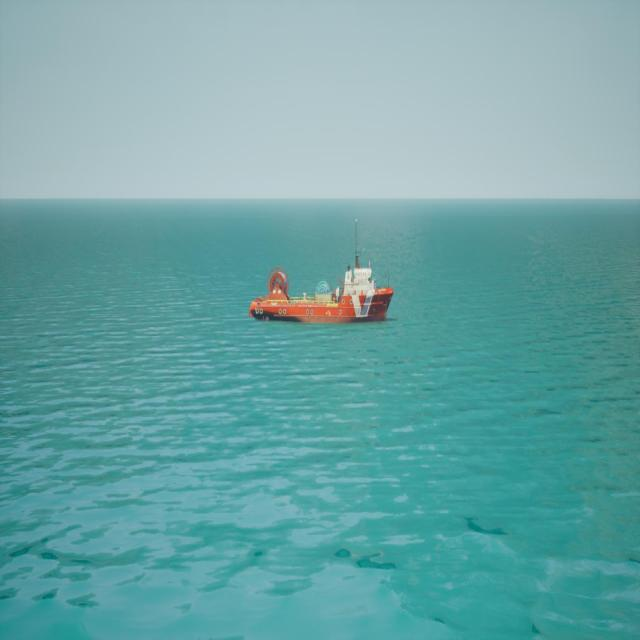tug boat: (250, 220, 398, 325)
